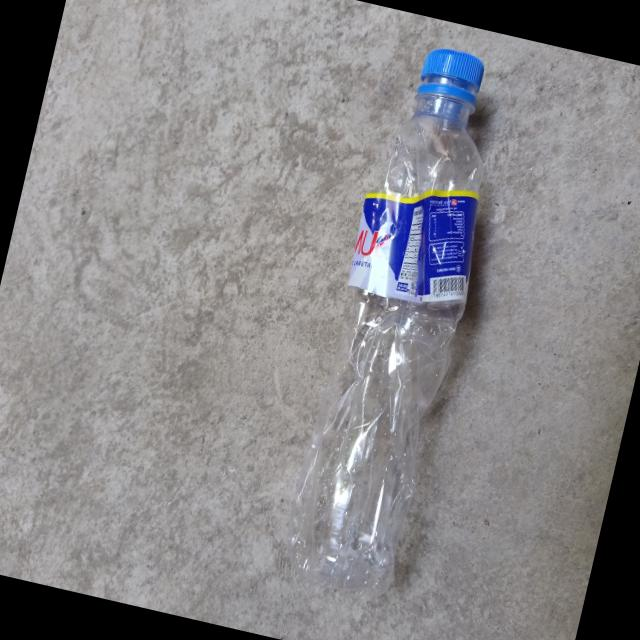Bottle: (289, 49, 483, 597)
